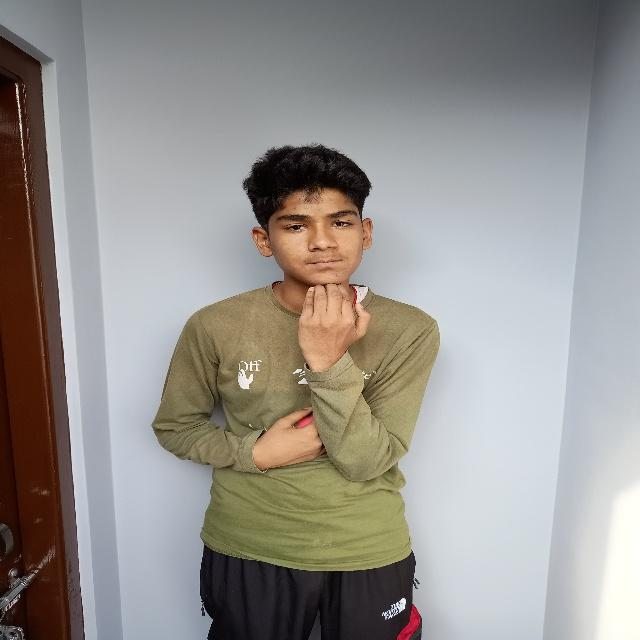Chin Flick: (244, 139, 392, 374)
